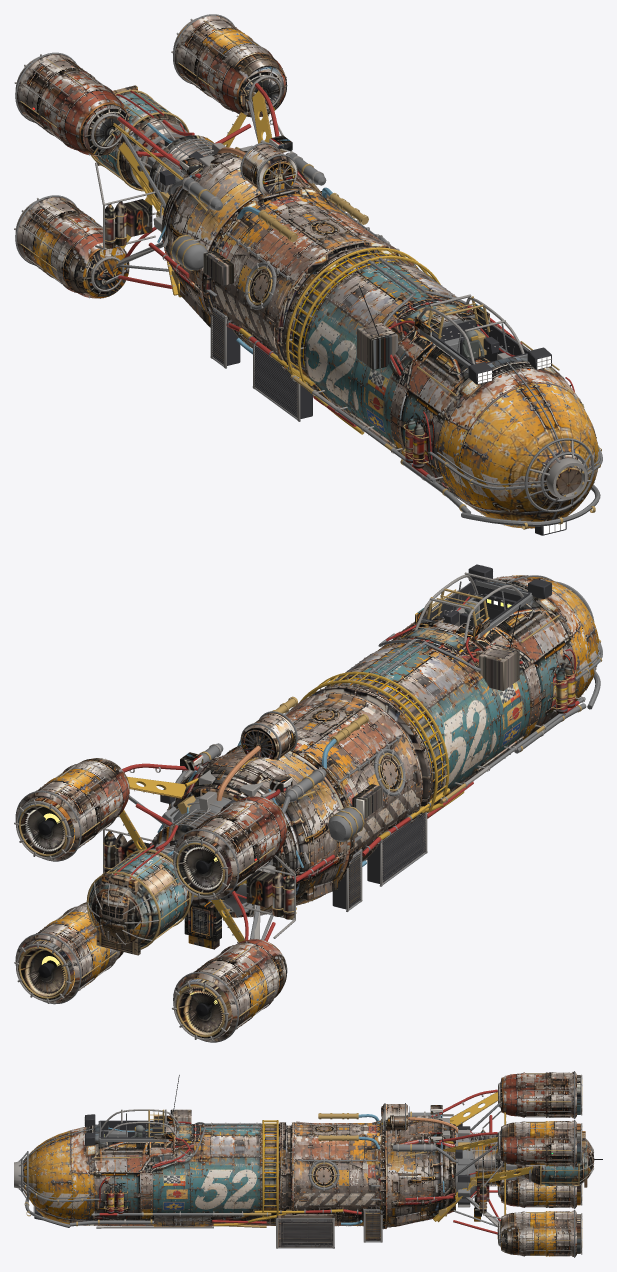
File: bidon52_vitrine.glb
3 renders of one model, top to bottom at view 1: azimuth 30°, elevation 25°; view 2: azimuth 150°, elevation 25°; view 3: azimuth 270°, elevation 25°, orthographic. The views are drawn at different scales.
Parts seen in each view (by area): view 1: BD_hull, BD_eng_UR, BD_tanks, BD_eng_LR, BD_eng_UL, BD_pipe, BD_cage, BD_cockpit, BD_pod, BD_rad, BD_struct, BD_fan (+3 smaller); view 2: BD_hull, BD_pod, BD_tanks, BD_eng_UL, BD_eng_UR, BD_eng_LR, BD_eng_LL, BD_pipe, BD_cockpit, BD_rad, BD_core, BD_fan (+4 smaller); view 3: BD_hull, BD_pipe, BD_eng_UL, BD_eng_UR, BD_eng_LL, BD_rad, BD_tanks, BD_pod, BD_struct, BD_core, BD_eng_LR, BD_cockpit (+4 smaller).
Part boxes in pixels (<box>): BD_hull: <box>157,151,599,528</box>; BD_eng_UR: <box>14,52,129,156</box>; BD_tanks: <box>95,124,574,468</box>; BD_eng_LR: <box>14,195,129,298</box>; BD_eng_UL: <box>171,14,287,117</box>; BD_pipe: <box>117,83,522,513</box>; BD_cage: <box>429,362,602,529</box>; BD_cockpit: <box>414,294,528,368</box>; BD_pod: <box>91,85,245,191</box>; BD_rad: <box>210,307,312,421</box>; BD_struct: <box>113,87,272,297</box>; BD_fan: <box>240,142,297,194</box>; BD_hull: <box>157,575,599,917</box>; BD_pod: <box>86,745,260,955</box>; BD_tanks: <box>103,604,576,938</box>; BD_eng_UL: <box>14,758,129,861</box>; BD_eng_UR: <box>172,796,287,899</box>; BD_eng_LR: <box>172,939,287,1042</box>; BD_eng_LL: <box>14,902,123,1004</box>; BD_pipe: <box>122,624,586,941</box>; BD_cockpit: <box>414,572,532,642</box>; BD_rad: <box>332,812,427,911</box>; BD_core: <box>150,791,275,916</box>; BD_fan: <box>185,711,297,786</box>; BD_hull: <box>23,1114,455,1229</box>; BD_pipe: <box>70,1089,501,1234</box>; BD_eng_UL: <box>497,1119,582,1167</box>; BD_eng_UR: <box>498,1071,582,1118</box>; BD_eng_LL: <box>497,1210,582,1257</box>; BD_rad: <box>276,1209,382,1248</box>; BD_tanks: <box>99,1075,501,1218</box>; BD_pod: <box>408,1117,602,1221</box>; BD_struct: <box>433,1090,533,1227</box>; BD_core: <box>456,1126,502,1207</box>; BD_eng_LR: <box>497,1175,582,1209</box>; BD_cockpit: <box>98,1109,179,1142</box>.
Size of the model in its own units: 13.21 by 11.95 by 47.73.
20 materials, 2 textured.
